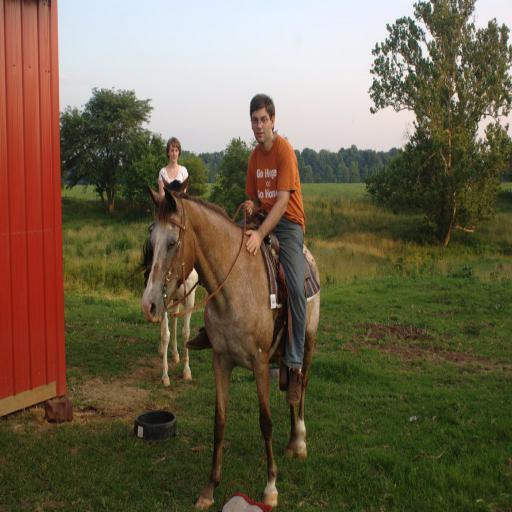horse: (142, 182, 320, 512), (131, 172, 200, 392)
